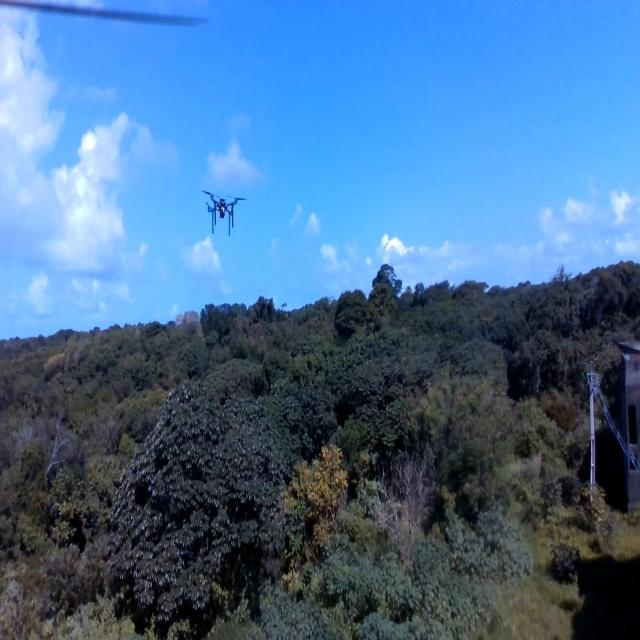-uav-: (200, 173, 248, 243)
